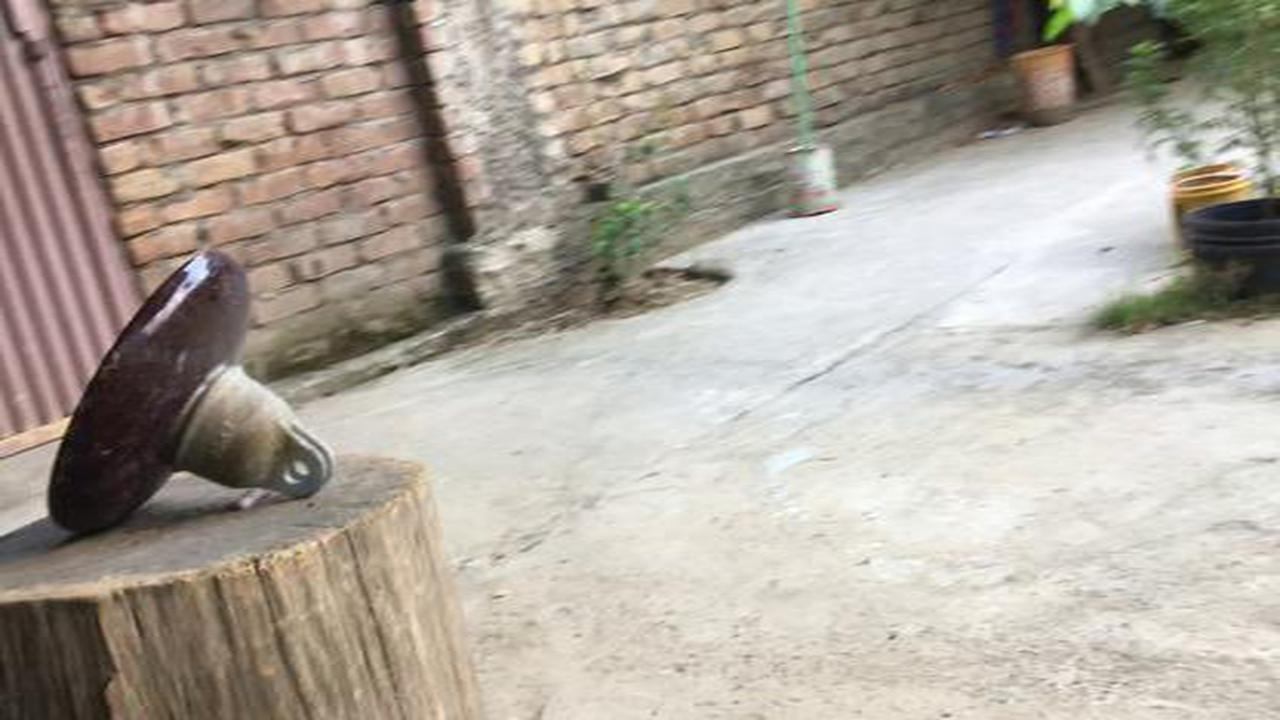insulator_disc: (42, 240, 344, 538)
